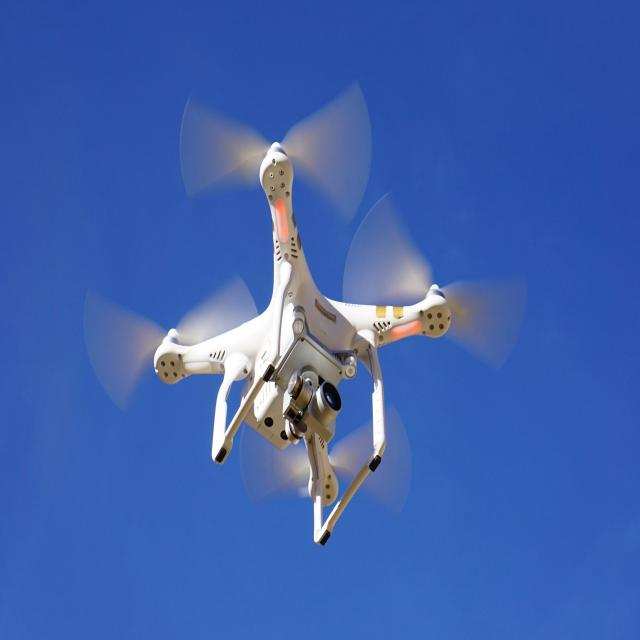drone: (150, 137, 454, 549)
